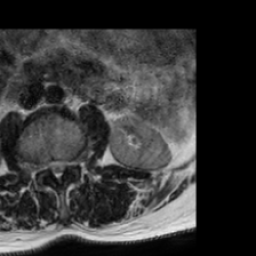CCS_normal: (54, 152, 61, 186)
LFS_stenosis: (68, 152, 76, 174)
LLS_stenosis: (61, 152, 68, 176)
RFS_stenosis: (38, 153, 47, 178)
RLS_stenosis: (47, 152, 54, 178)
